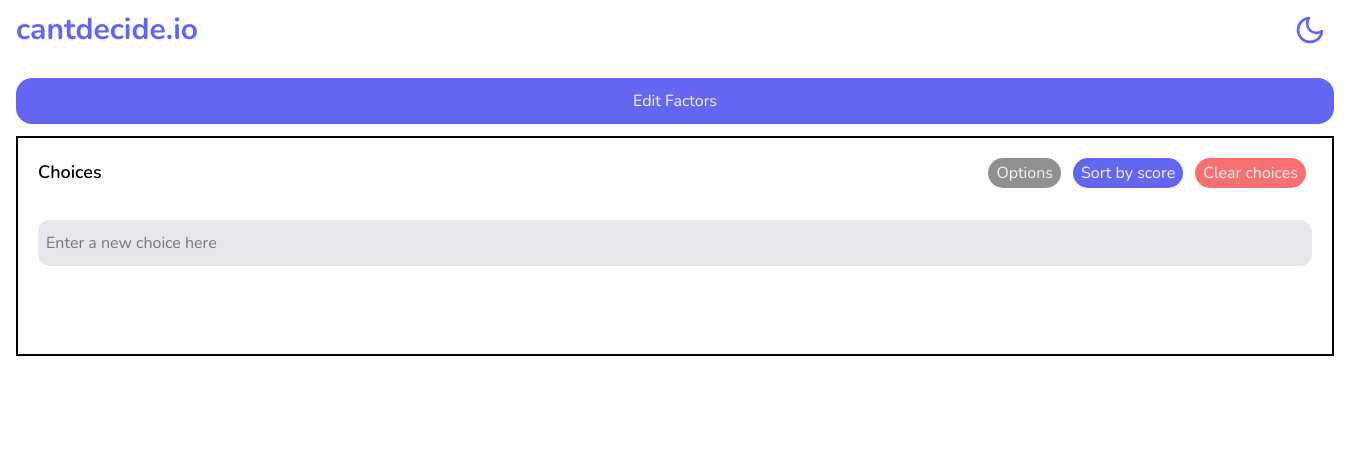
it: App rendering tests › submit choice input
This screenshot has width=1351, height=451.
Type "Choice 1" into the field with placeholder "Enter a new choice here".
click(675, 243); type("Choice 1")  # box [38,220,1312,266]
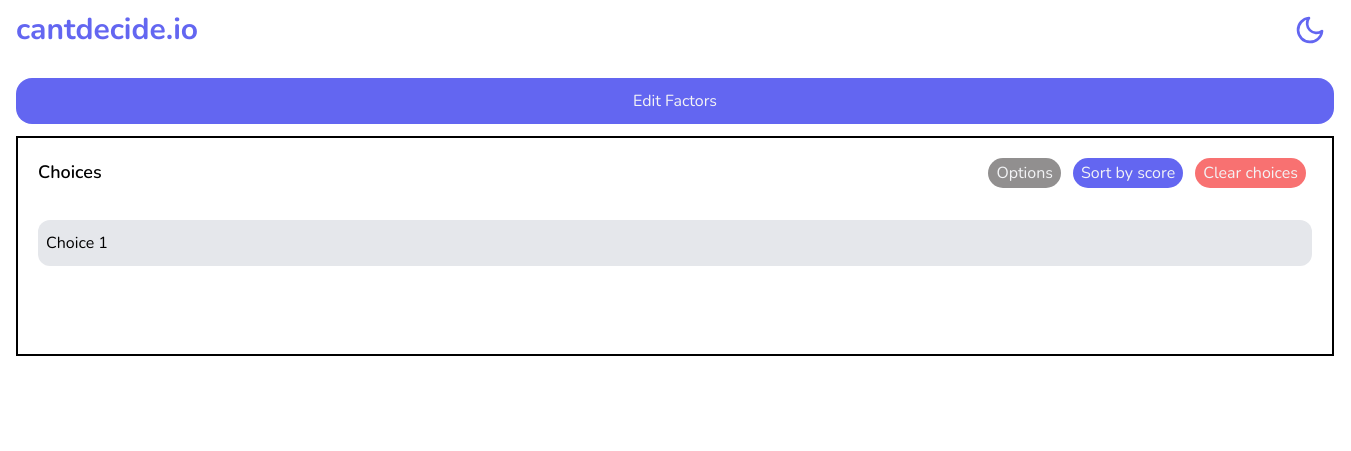
Press Enter in the field with placeholder "Enter a new choice here", box [38,220,1312,266]
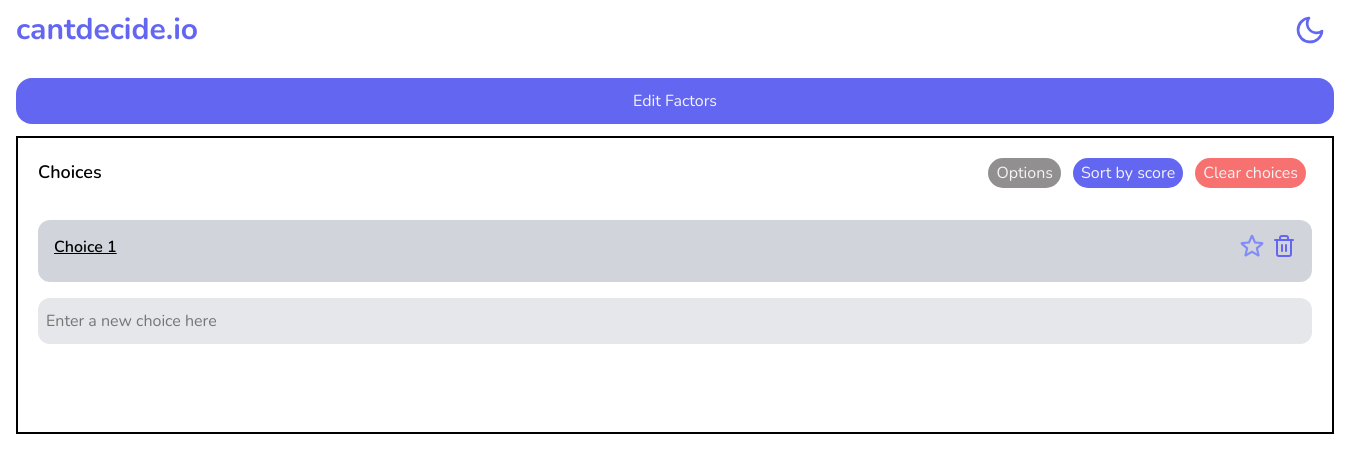
Expected: the list is not empty, [38,220,1312,282]
